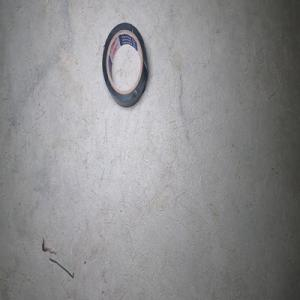Tape: (102, 22, 148, 107)
